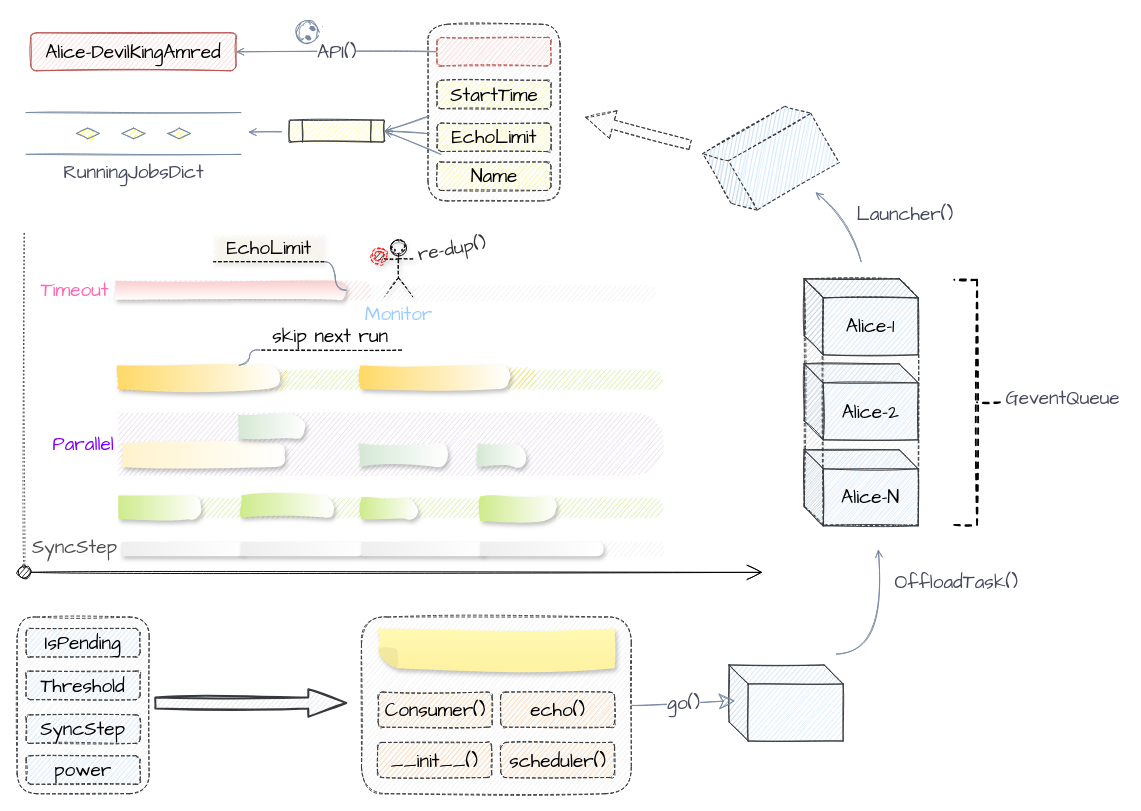
Image size: 1141x811. Some labels were removed from this diagram. The shapes that lost their labels are listed below. From the top down, each one's centre as x and y in pixels, then its label:
[493,51]: API
[336,130]: mapping()
[770,158]: Alice-X
[88,375]: Warn
[83,507]: Normal
[497,649]: CollectorScheduler
[250,702]: MappingConfig()
[785,702]: Alice-Y
